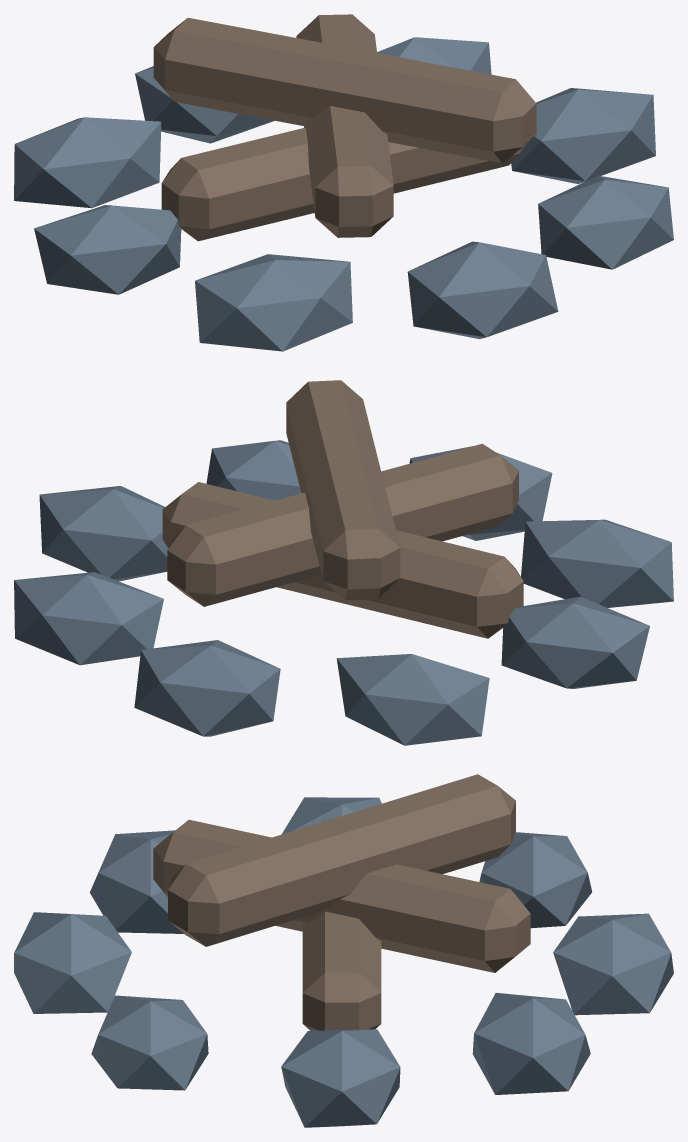
File: enfeite_fogueira.glb
The picture shows the model from 3 angles, top to bottom: view 1: azimuth 30°, elevation 25°; view 2: azimuth 150°, elevation 25°; view 3: azimuth 270°, elevation 25°; orthographic projection. The views are drawn at different scales.
Visible parts, largest first — view 1: pedreira_enfeite_fogueira; view 2: pedreira_enfeite_fogueira; view 3: pedreira_enfeite_fogueira.
Boxes of the visible parts, <box> form: pedreira_enfeite_fogueira: <box>14,14,673,351</box>; pedreira_enfeite_fogueira: <box>14,380,673,745</box>; pedreira_enfeite_fogueira: <box>14,774,673,1127</box>.
Bounding box in the file's own units: 0.624 × 0.1841 × 0.5853.
